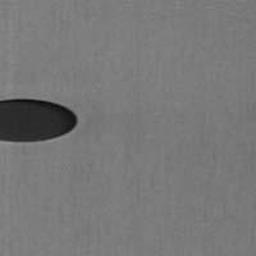Punching: (0, 99, 79, 143)
